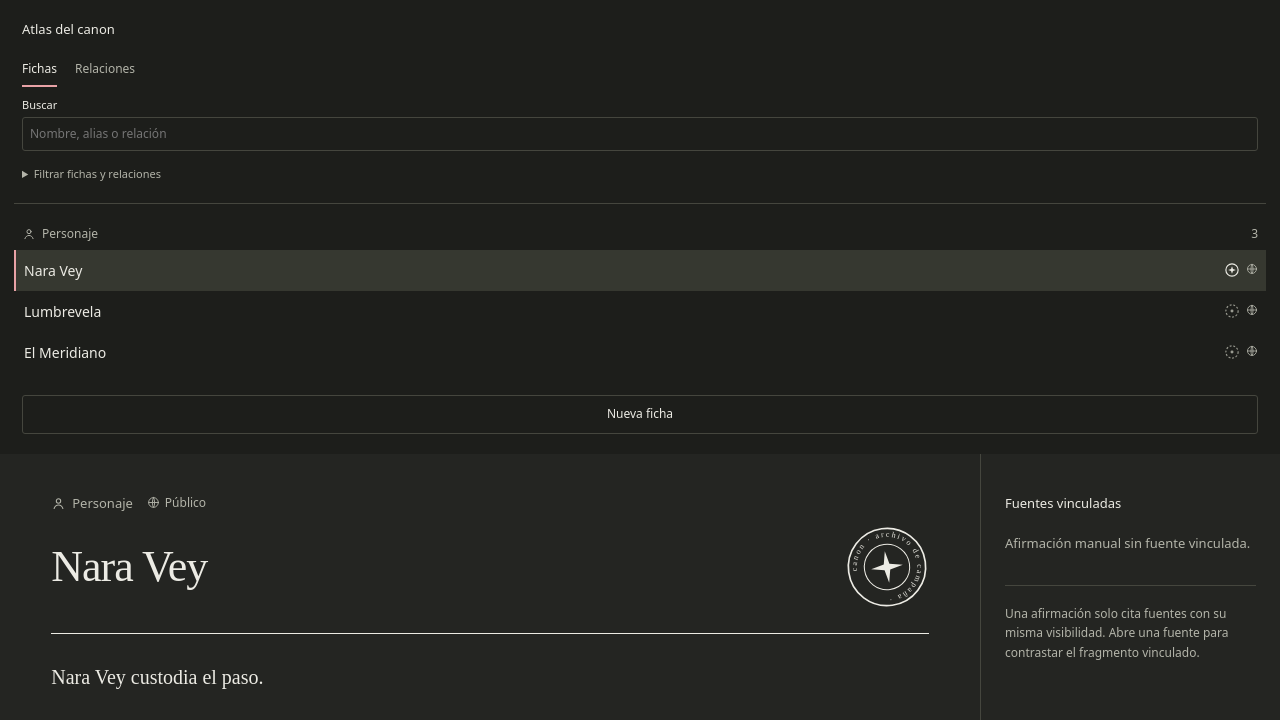
Scenario: CatalogueWorkspace › presenta sellos, tipos, visibilidad y relaciones como frases
Expected: the picture named "Sello de canon" is shown, top-left (839, 520), bottom-right (934, 615)
Expected: the text "Personaje" is shown, top-left (51, 494), bottom-right (133, 513)
Click the link with aria-label "Abrir ficha de Lumbrevela" at (63, 311), box top-left (24, 302), bottom-right (1258, 320)
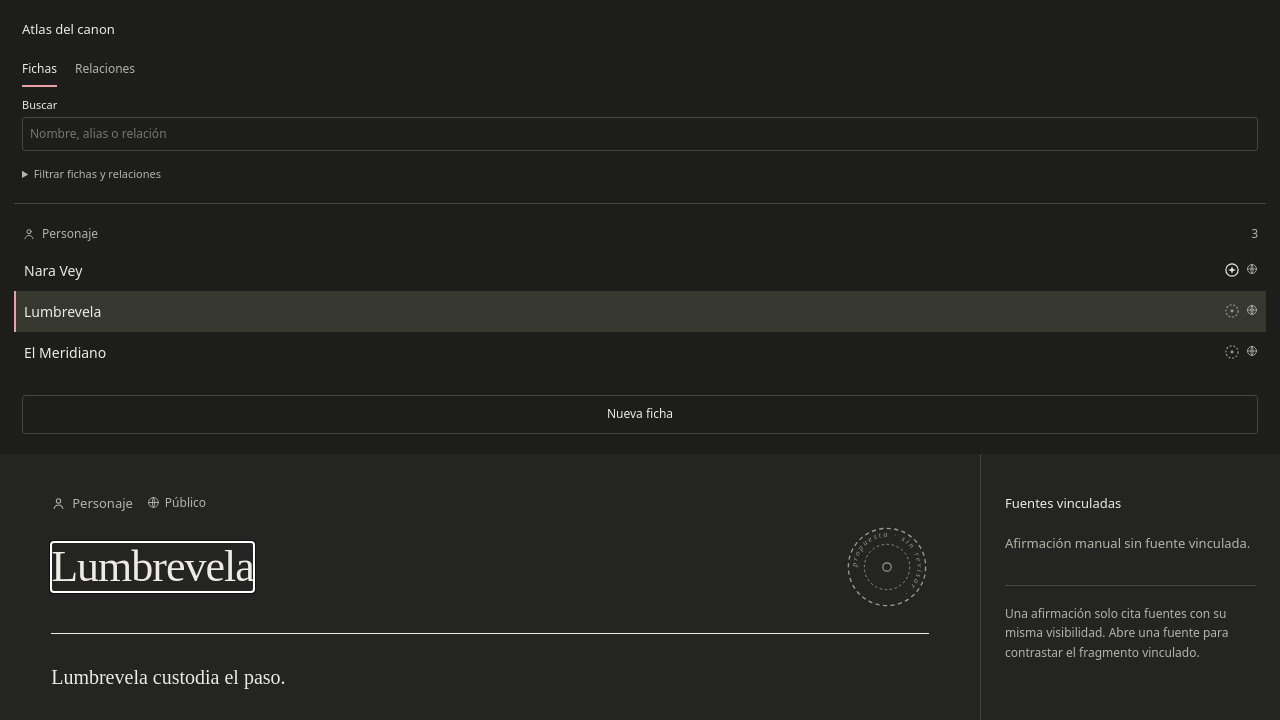
Expected: the picture named "Sello de propuesta" is shown, top-left (845, 525), bottom-right (929, 609)
